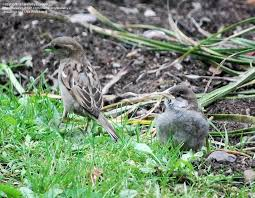home_sparrow: (34, 36, 120, 140), (144, 84, 212, 151)
